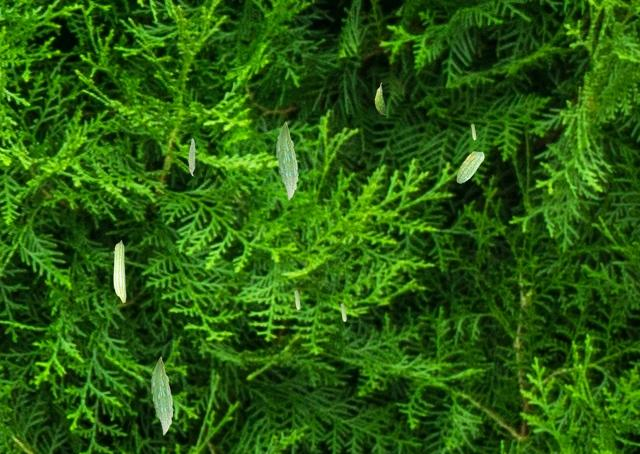ampalaya: (276, 121, 298, 200), (151, 356, 173, 435), (456, 150, 484, 183), (113, 239, 126, 303), (374, 82, 385, 115), (188, 138, 195, 176), (293, 289, 300, 309), (340, 302, 347, 321), (470, 123, 476, 140)
